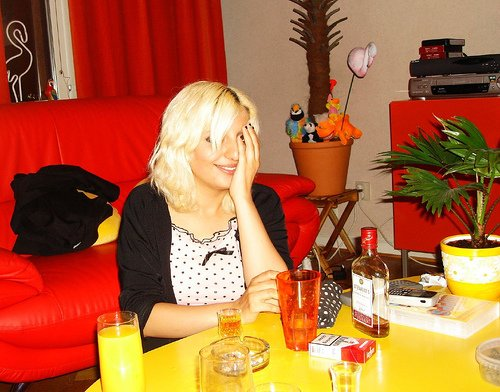bottle: (352, 230, 390, 339)
chair: (308, 192, 363, 283)
couch: (2, 2, 228, 333), (1, 94, 174, 371), (2, 98, 168, 372)
cup: (96, 313, 144, 391), (276, 270, 322, 351), (440, 237, 499, 300), (200, 340, 252, 391), (476, 340, 500, 388), (240, 337, 270, 374), (329, 363, 362, 392), (218, 309, 243, 340)
dining table: (244, 227, 500, 389), (244, 259, 500, 392), (244, 293, 500, 392)
person: (120, 82, 296, 339)
potted plant: (372, 114, 500, 292), (287, 95, 364, 193)
